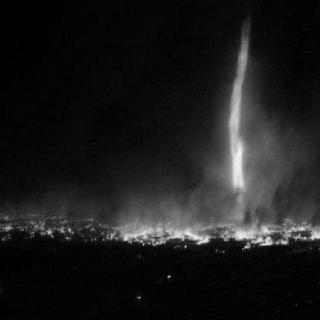Fire: (3, 197, 317, 256), (202, 12, 268, 230)
